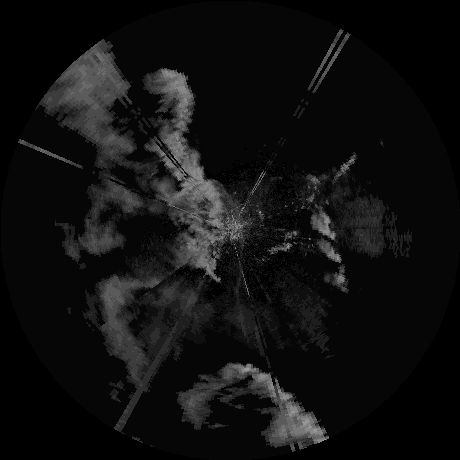frontgust: (231, 247, 250, 337)
